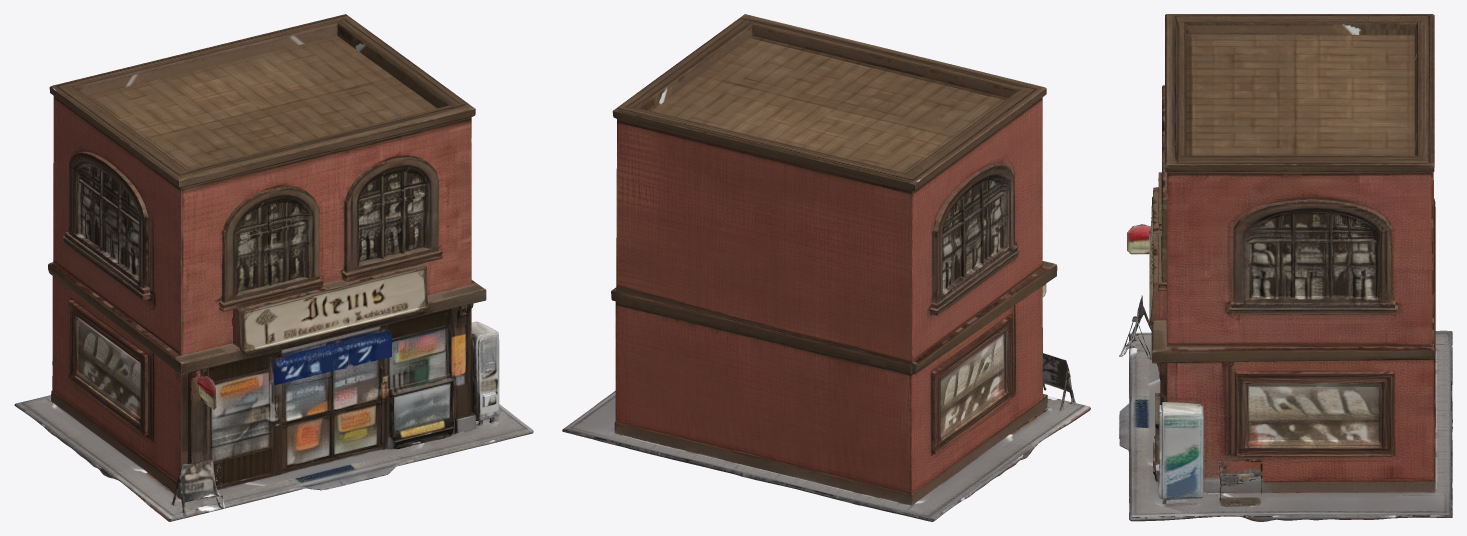
File: talents.glb
3 renders of one model, left to right at view 1: azimuth 30°, elevation 25°; view 2: azimuth 150°, elevation 25°; view 3: azimuth 270°, elevation 25°, orthographic. The views are drawn at different scales.
Parts seen in each view (by area): view 1: model; view 2: model; view 3: model.
Boxes of the visible parts, <box> form: model: <box>14,14,533,521</box>; model: <box>562,14,1090,521</box>; model: <box>1119,14,1452,521</box>.
Size of the model in its own units: 1.9 by 1.61 by 1.44.
1 material, 1 textured.
